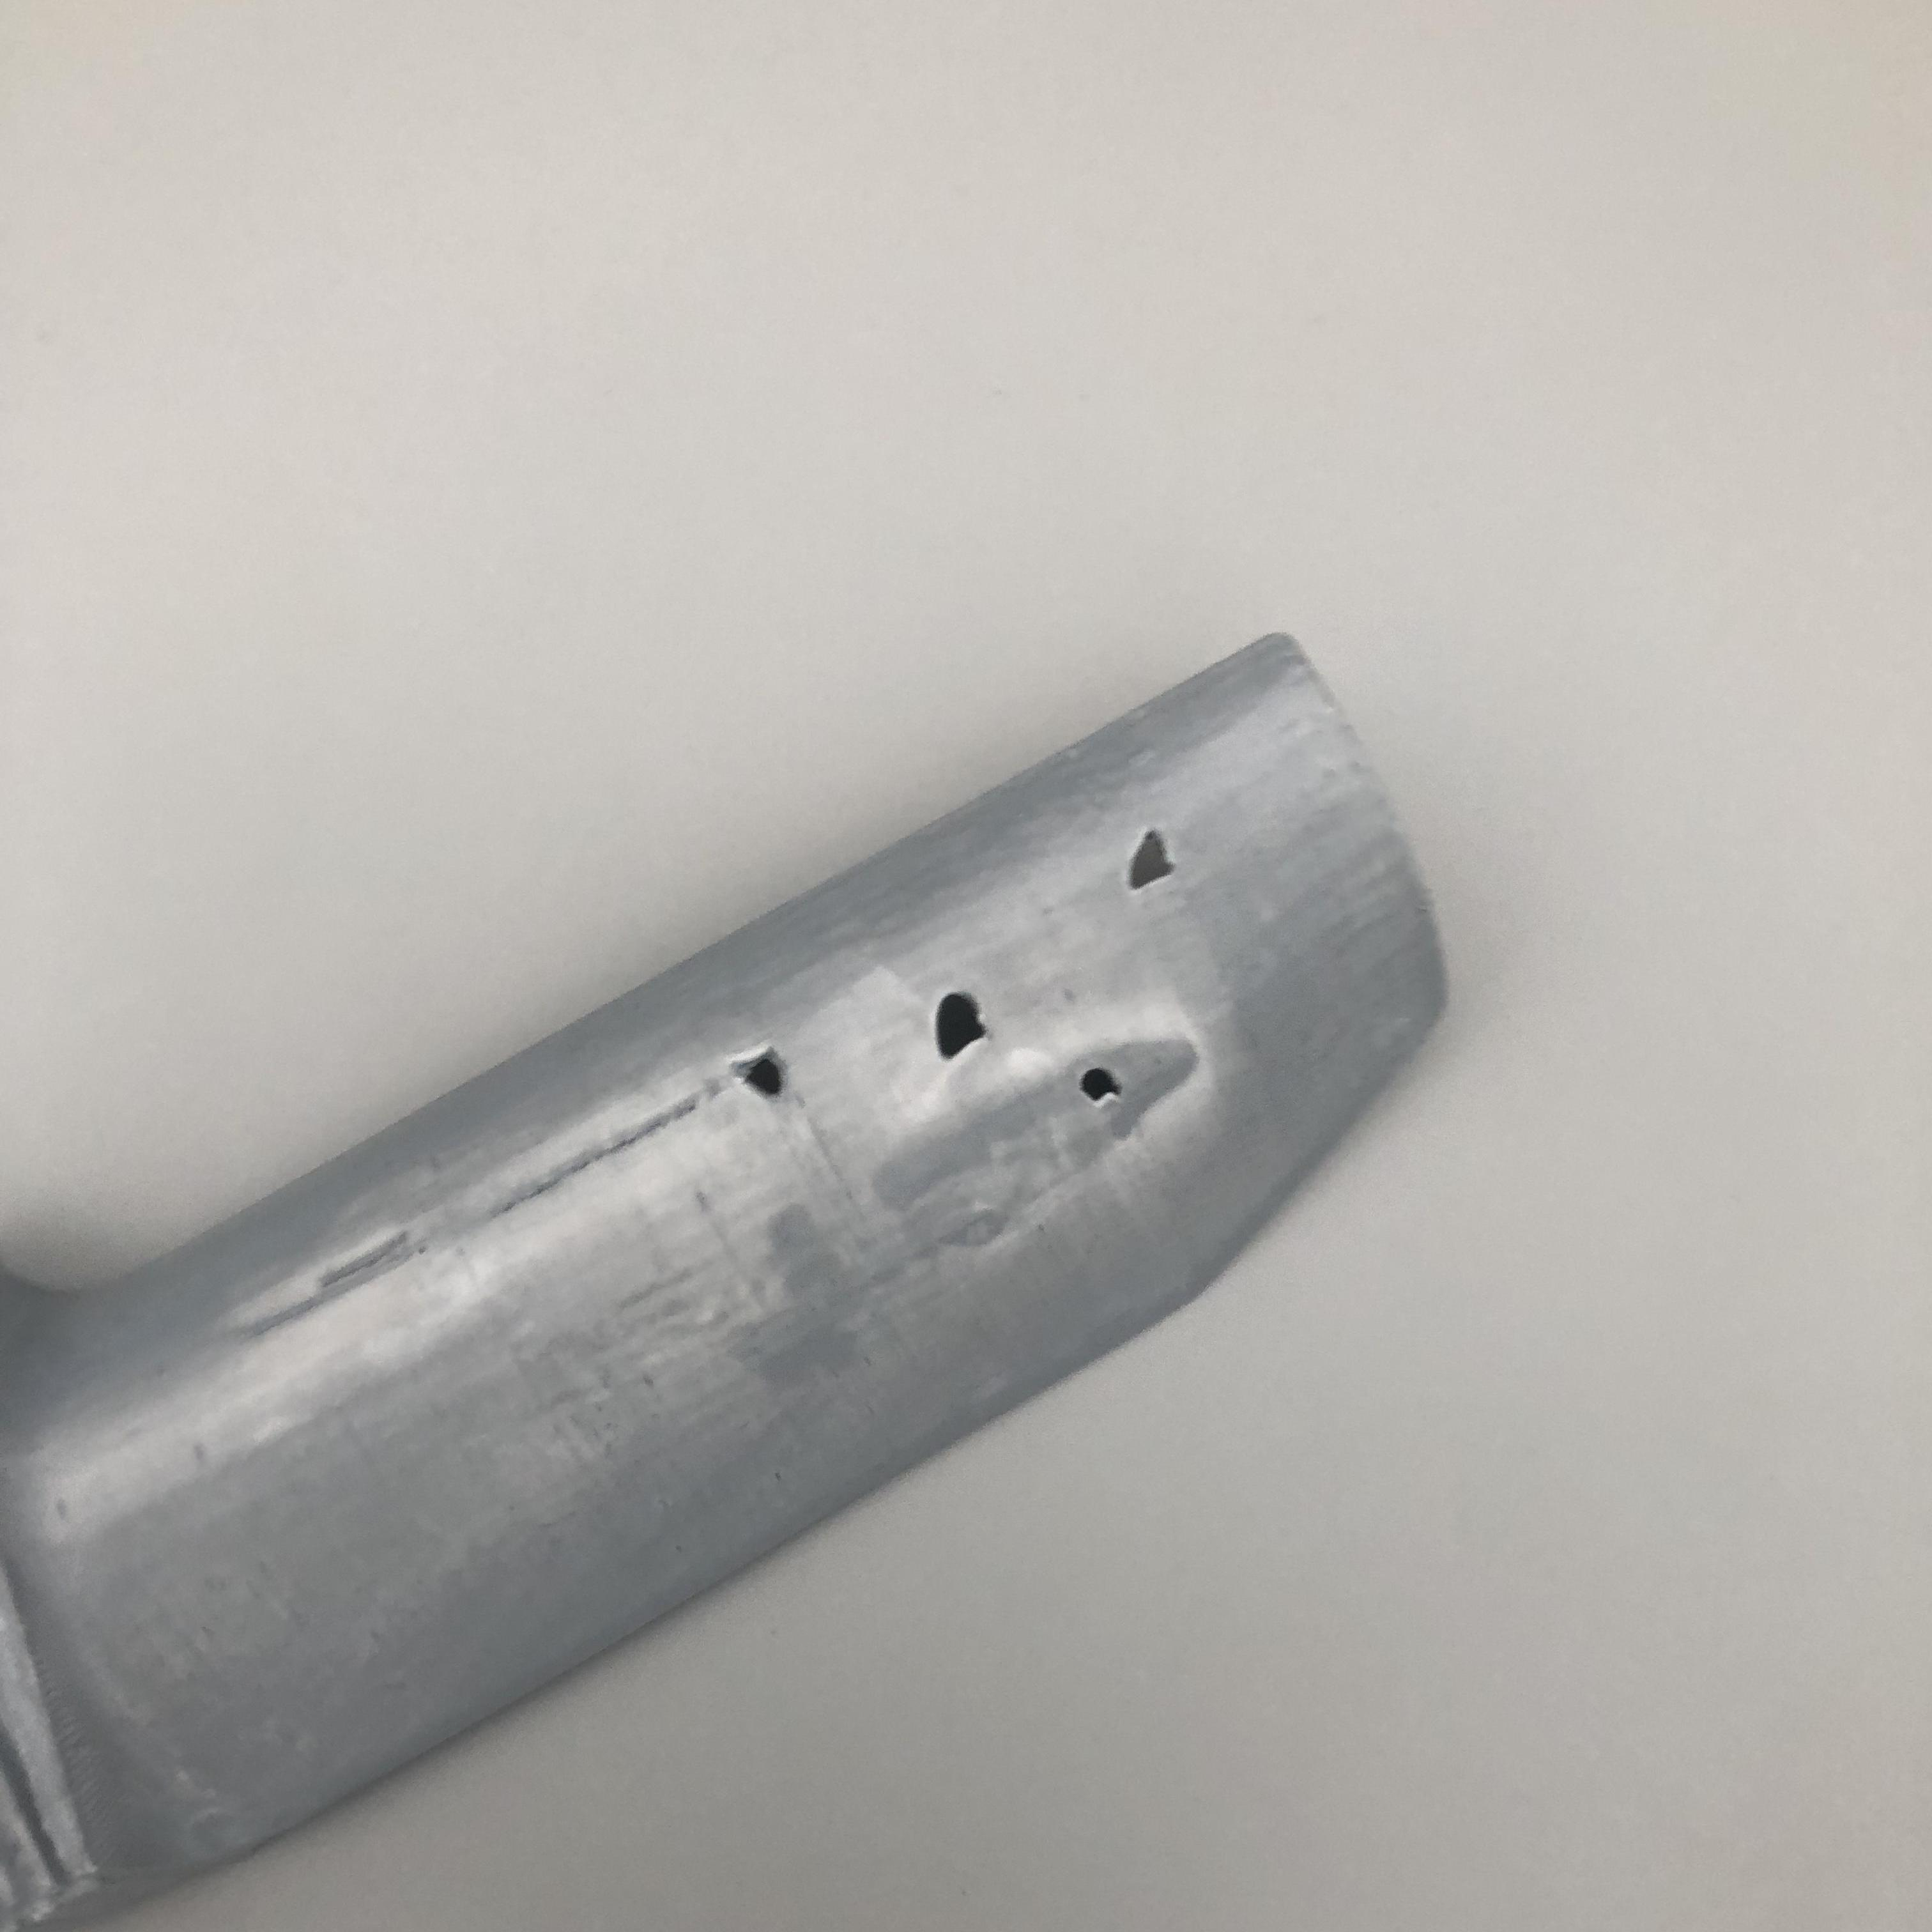breakdown: (741, 964, 1168, 1139), (1100, 814, 1233, 916)
